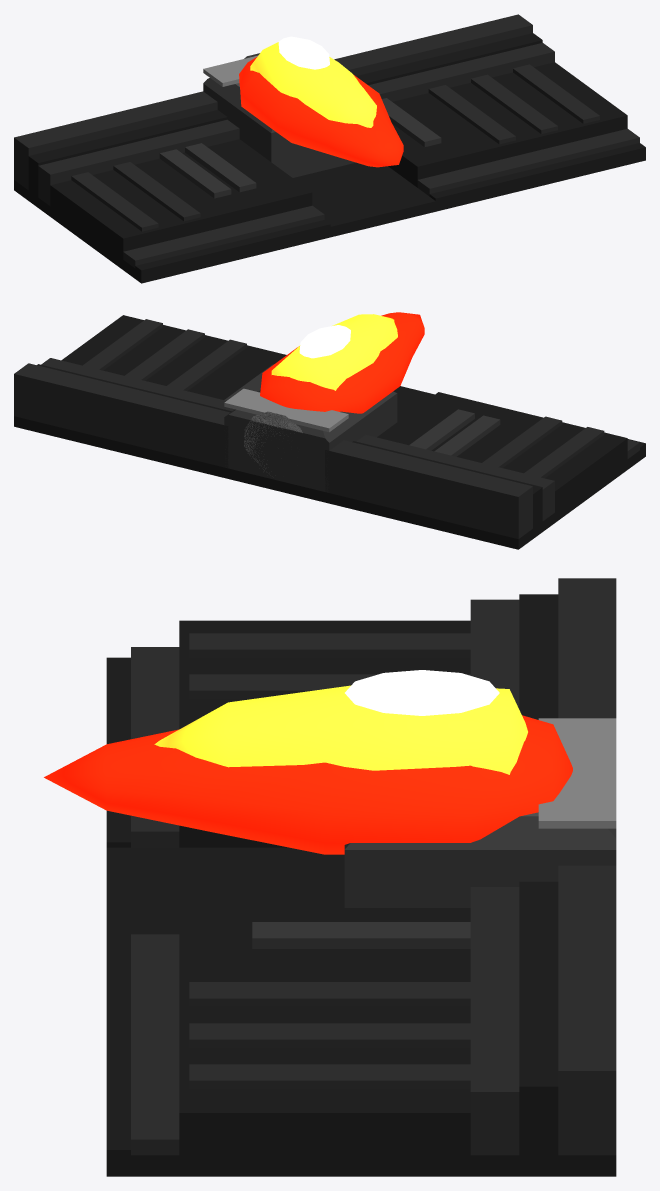
Rendered from newshf-119-f2.glb.
3 renders of one model, top to bottom at view 1: azimuth 30°, elevation 25°; view 2: azimuth 150°, elevation 25°; view 3: azimuth 270°, elevation 25°, orthographic. The views are drawn at different scales.
Visible parts, largest first — view 1: newshf-119, newshf-119-f2_flame; view 2: newshf-119, newshf-119-f2_flame; view 3: newshf-119, newshf-119-f2_flame.
Part boxes in pixels (bbox=[...]): newshf-119: bbox=[14, 14, 645, 283]; newshf-119-f2_flame: bbox=[239, 36, 403, 167]; newshf-119: bbox=[14, 315, 645, 549]; newshf-119-f2_flame: bbox=[260, 312, 424, 413]; newshf-119: bbox=[106, 578, 616, 1176]; newshf-119-f2_flame: bbox=[44, 670, 572, 854].
Bounding box in the file's own units: 2 × 0.4577 × 0.9833.
